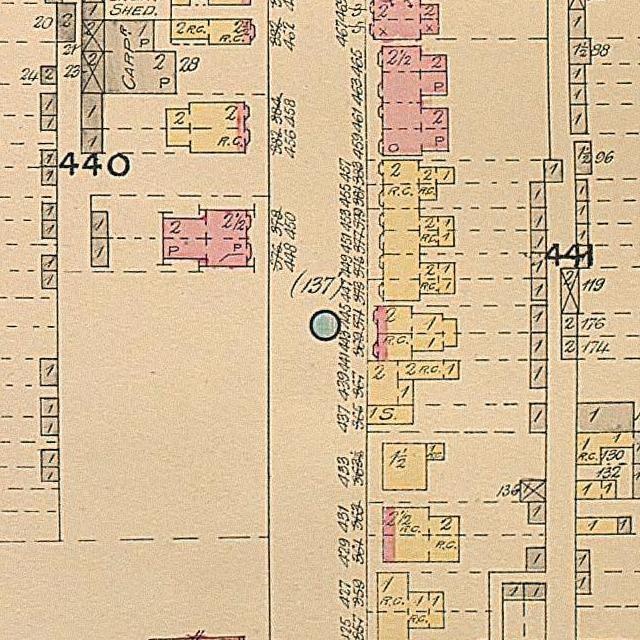building-footprints: (379, 160, 455, 300), (378, 46, 448, 155), (104, 20, 176, 94), (162, 210, 251, 267), (373, 306, 457, 361), (377, 572, 444, 640), (166, 102, 250, 152), (383, 508, 459, 562), (367, 361, 459, 405), (369, 0, 439, 40), (171, 19, 255, 45), (382, 443, 427, 490), (576, 432, 640, 465), (576, 403, 634, 432), (81, 51, 105, 93), (561, 268, 580, 314), (367, 405, 413, 424), (81, 92, 103, 129), (576, 480, 616, 499), (81, 19, 104, 52), (57, 3, 76, 42), (576, 518, 618, 535), (568, 38, 591, 64), (574, 142, 592, 174), (81, 128, 103, 154), (40, 358, 59, 387), (520, 480, 545, 502), (529, 403, 547, 433), (91, 237, 108, 267), (570, 105, 587, 134), (530, 359, 547, 388), (569, 9, 585, 39), (91, 211, 108, 239), (527, 547, 545, 572), (531, 332, 547, 360), (529, 182, 546, 208), (531, 252, 547, 279), (531, 306, 547, 333), (544, 160, 563, 182), (82, 1, 105, 19), (561, 336, 578, 360), (528, 502, 546, 524), (40, 416, 59, 436), (41, 93, 57, 116), (531, 278, 547, 301), (561, 314, 577, 337), (40, 398, 59, 417), (569, 84, 586, 105), (524, 583, 545, 600), (503, 583, 524, 600), (530, 208, 546, 230), (531, 230, 546, 253), (569, 64, 586, 84), (41, 449, 59, 467), (426, 443, 445, 460), (42, 166, 58, 186), (576, 200, 589, 224), (576, 550, 590, 572), (576, 572, 590, 594), (41, 66, 58, 84), (42, 271, 58, 289), (576, 223, 589, 245), (42, 220, 57, 239), (576, 179, 588, 202), (577, 245, 589, 268), (41, 467, 59, 481), (42, 150, 57, 166), (42, 255, 57, 271), (41, 116, 58, 130), (43, 203, 57, 220), (633, 464, 640, 498), (617, 517, 631, 534), (569, 0, 585, 10)
